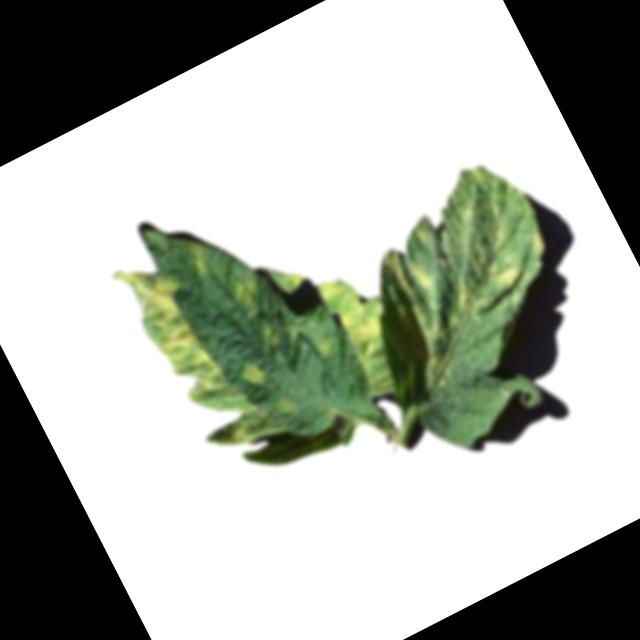Leaf_Mold: (111, 248, 239, 432), (315, 259, 402, 364), (219, 261, 271, 323), (484, 245, 533, 296), (403, 252, 441, 296), (236, 353, 272, 390), (519, 222, 550, 258)
